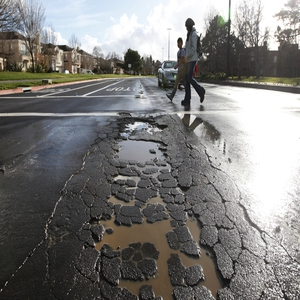pothole: (111, 118, 197, 300)
